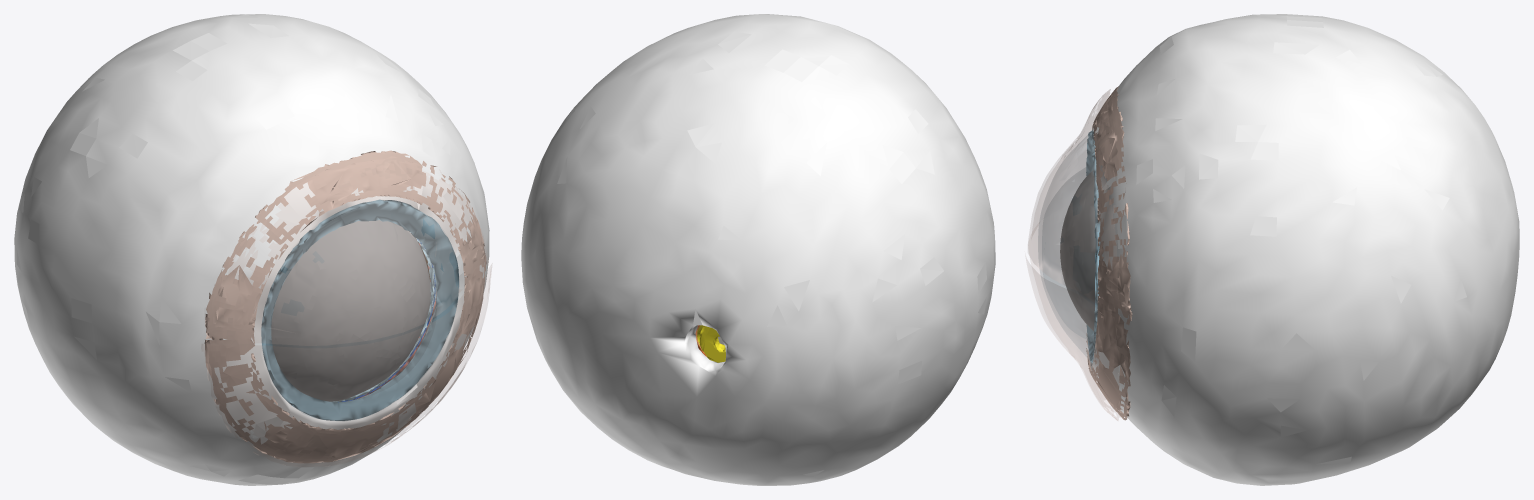
The model's file is 3d-vh-m-eye-l-40.glb.
3 views of the same model, side by side, from view 1: azimuth 30°, elevation 25°; view 2: azimuth 150°, elevation 25°; view 3: azimuth 270°, elevation 25° (orthographic).
Visible parts, largest first — view 1: VH_M_sclera_L, VH_M_palpebral_conjunctiva_of_upper_eyelid_L, VH_M_cornea_L, VH_M_palpebral_conjunctiva_of_lower_eyelid_L, VH_M_bulbar_conjunctiva_L, VH_M_aqueous_humor_L, VH_M_corneo_scleral_junction_L, VH_M_trabecular_meshwork_L; view 2: VH_M_sclera_L, VH_M_optic_disc_L; view 3: VH_M_sclera_L, VH_M_palpebral_conjunctiva_of_upper_eyelid_L, VH_M_cornea_L, VH_M_bulbar_conjunctiva_L, VH_M_palpebral_conjunctiva_of_lower_eyelid_L, VH_M_aqueous_humor_L, VH_M_corneo_scleral_junction_L.
Part boxes in pixels (bbox=[...]): VH_M_sclera_L: bbox=[14, 14, 489, 485]; VH_M_palpebral_conjunctiva_of_upper_eyelid_L: bbox=[209, 156, 488, 345]; VH_M_cornea_L: bbox=[262, 202, 459, 420]; VH_M_palpebral_conjunctiva_of_lower_eyelid_L: bbox=[202, 264, 491, 466]; VH_M_bulbar_conjunctiva_L: bbox=[204, 150, 486, 463]; VH_M_aqueous_humor_L: bbox=[271, 220, 430, 401]; VH_M_corneo_scleral_junction_L: bbox=[261, 199, 458, 420]; VH_M_trabecular_meshwork_L: bbox=[330, 232, 436, 402]; VH_M_sclera_L: bbox=[521, 14, 995, 485]; VH_M_optic_disc_L: bbox=[699, 326, 725, 362]; VH_M_sclera_L: bbox=[1090, 14, 1519, 485]; VH_M_palpebral_conjunctiva_of_upper_eyelid_L: bbox=[1028, 89, 1121, 313]; VH_M_cornea_L: bbox=[1038, 133, 1097, 362]; VH_M_bulbar_conjunctiva_L: bbox=[1086, 86, 1132, 420]; VH_M_palpebral_conjunctiva_of_lower_eyelid_L: bbox=[1026, 228, 1120, 420]; VH_M_aqueous_humor_L: bbox=[1060, 170, 1095, 331]; VH_M_corneo_scleral_junction_L: bbox=[1086, 130, 1099, 363].
Bounding box in the file's own units: 0.0245 × 0.0244 × 0.0257.
